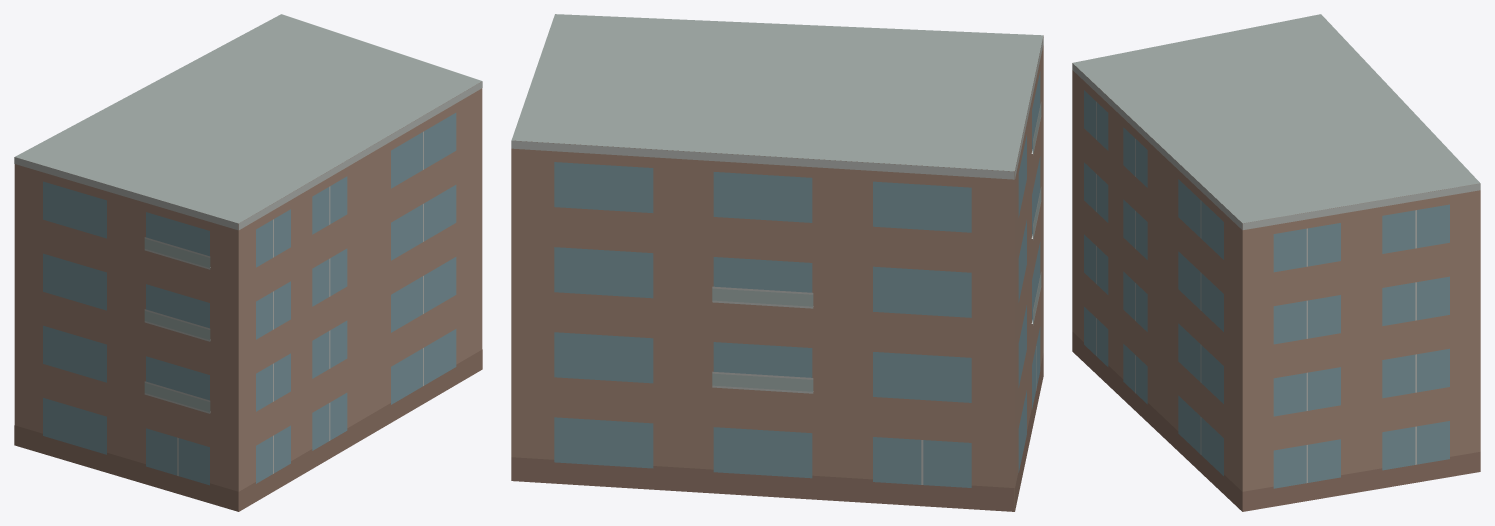
File: survey-upis-32682231.glb
3 views of the same model, side by side, from view 1: azimuth 30°, elevation 25°; view 2: azimuth 150°, elevation 25°; view 3: azimuth 270°, elevation 25° (orthographic). The views are drawn at different scales.
Parts seen in each view (by area): view 1: survey-upis-32682231.tmp; view 2: survey-upis-32682231.tmp; view 3: survey-upis-32682231.tmp.
Part boxes in pixels (left/top/right/bottom): survey-upis-32682231.tmp: left=14, top=14, right=482, bottom=511; survey-upis-32682231.tmp: left=511, top=14, right=1043, bottom=511; survey-upis-32682231.tmp: left=1072, top=14, right=1480, bottom=511.
Bounding box in the file's own units: 15.8 × 10.15 × 13.03.
